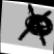not correct: (14, 1, 53, 47)
